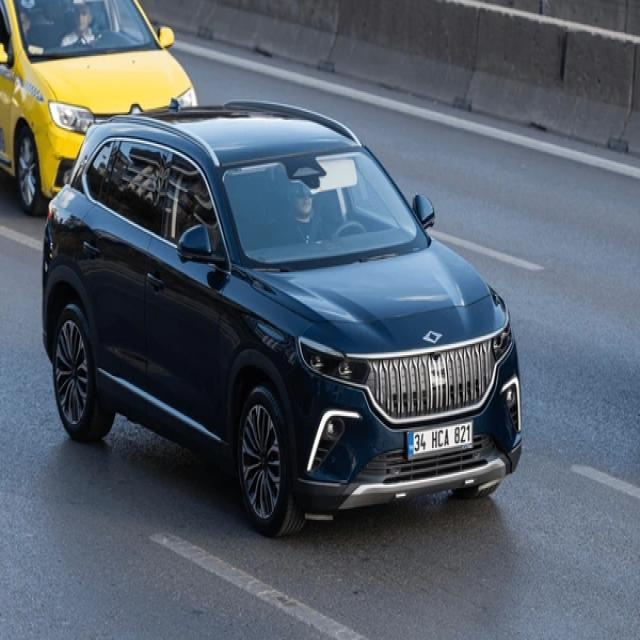togg: (422, 328, 445, 346)
